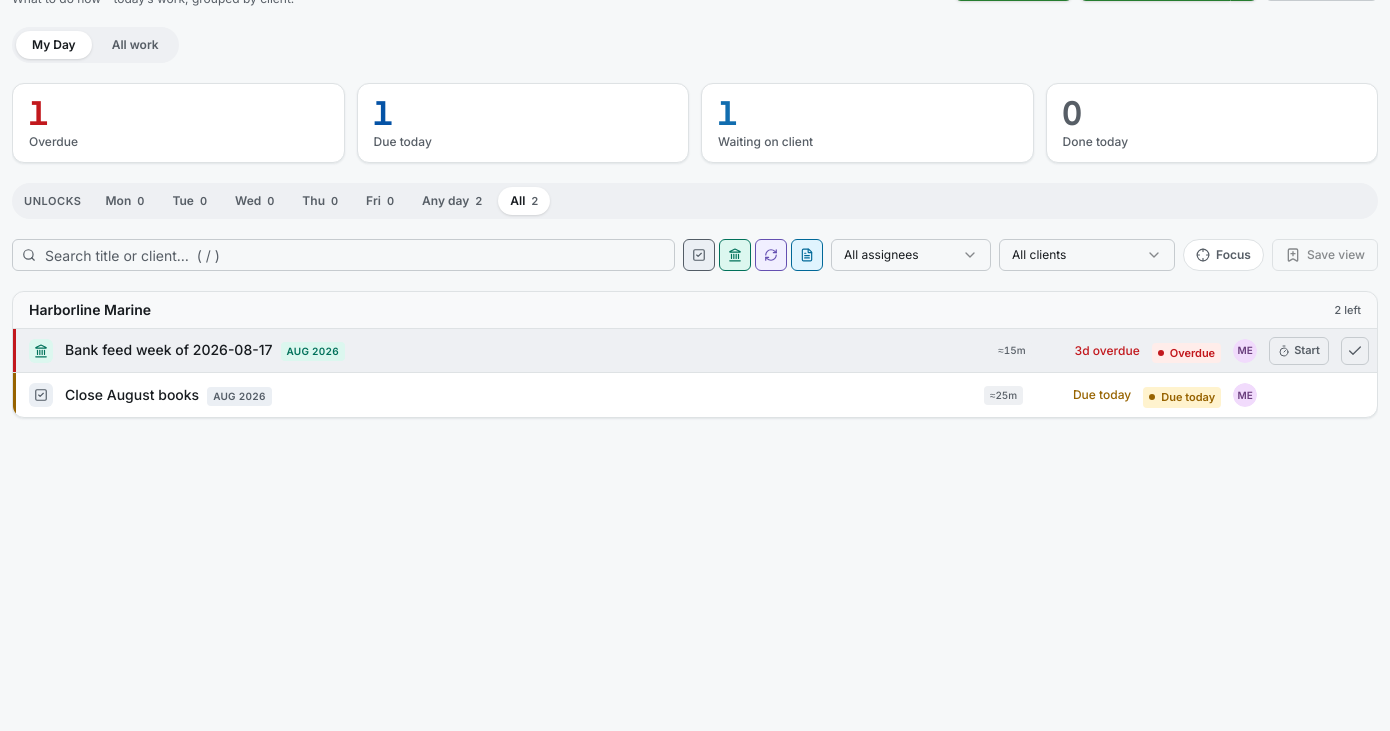
Test: WorkstationQueue - My Day default (D1) › All work restores the full queue with bucket tabs
The image size is (1390, 731).
Click the tab with test id "view-tab-queue": (135, 45) [96, 31, 175, 59]
(page scrolled)
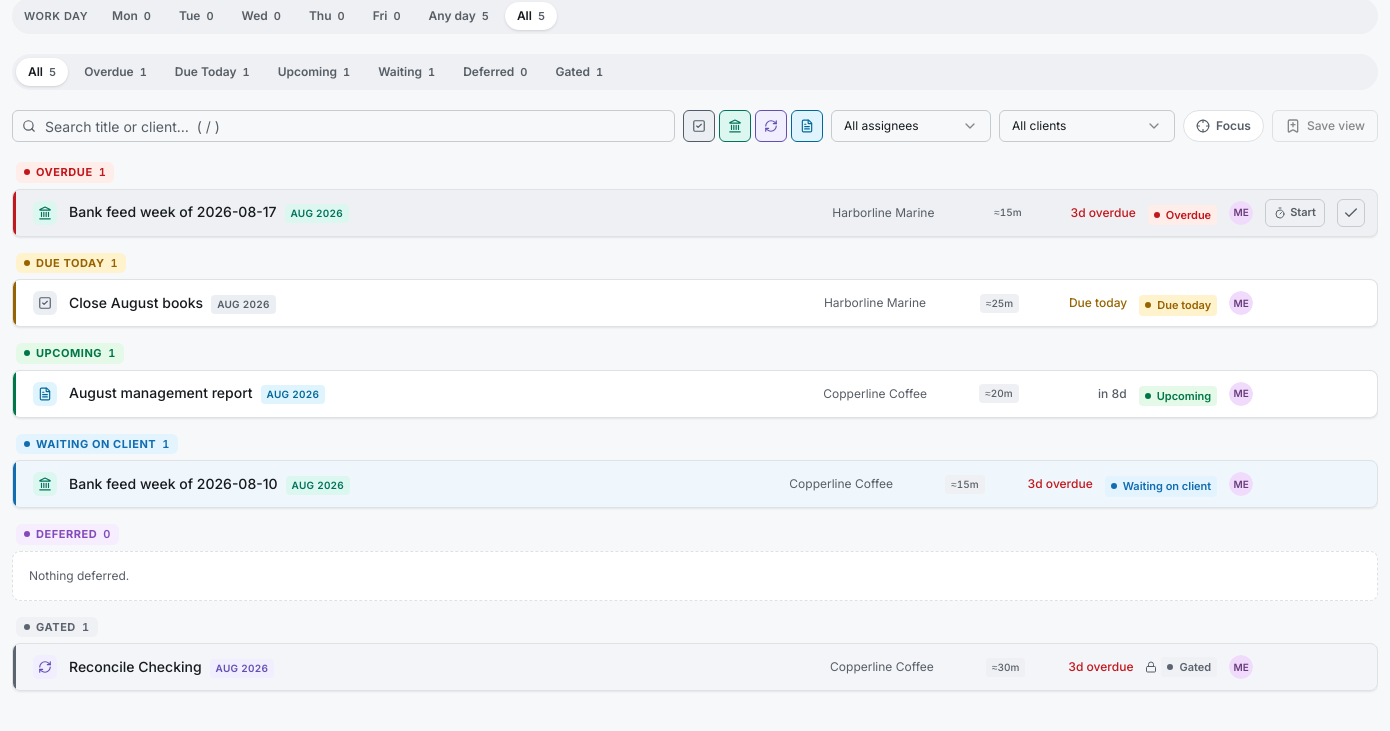
Expected: the tab "Overdue1" is shown, [72, 58, 159, 86]
Expected: the number of elements with test id "work-card" is 5, [12, 188, 1378, 236]; [12, 279, 1378, 327]; [12, 370, 1378, 418]; [12, 460, 1378, 508]; [12, 643, 1378, 691]
Expected: the text "August management report" is shown, [69, 383, 253, 403]
